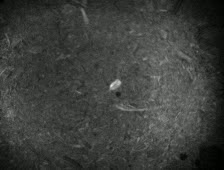corn: (107, 77, 123, 93)
